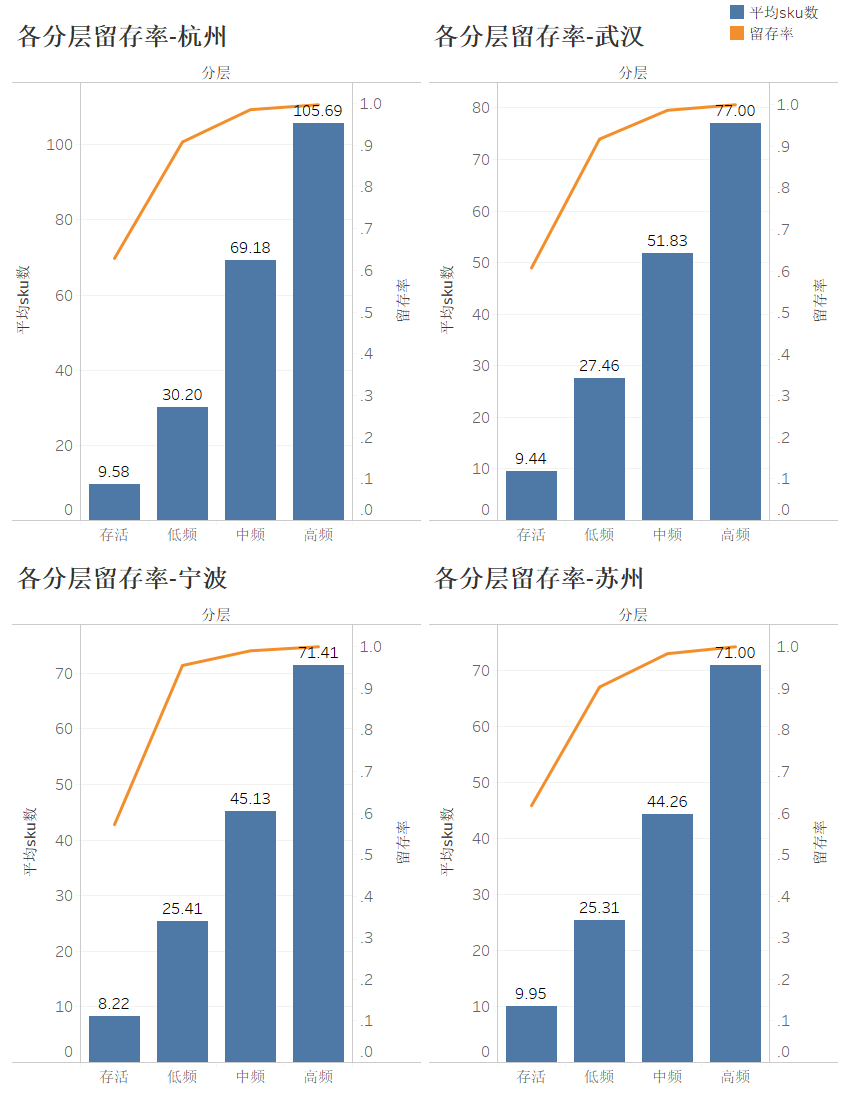

The page's visual inventory and layout, read from the dashboard file:
{"tool":"tableau","page":{"name":"各分层留存率","canvas":[850,1100],"ordinal":1},"visuals":[{"type":"legend","title":"各分层留存率-杭州","param":"[federated.0uwcjbs0awdphp1e32tgf1unsef3].[:Measure Names]","box":[727,2,119,68]},{"type":"worksheet","title":"各分层留存率-杭州","mark":"Bar","rows":["平均sku数","留存率"],"cols":["分层"],"box":[8,8,417,542]},{"type":"worksheet","title":"各分层留存率-武汉","mark":"Bar","rows":["平均sku数","留存率"],"cols":["分层"],"box":[425,8,417,542]},{"type":"worksheet","title":"各分层留存率-宁波","mark":"Bar","rows":["平均sku数","留存率"],"cols":["分层"],"box":[8,550,417,542]},{"type":"worksheet","title":"各分层留存率-苏州","mark":"Bar","rows":["平均sku数","留存率"],"cols":["分层"],"box":[425,550,417,542]}]}

Visuals, with their boxes in screenshot pixels (x1, y1, x2, y2), scaled from the page's 850x1100 canvas onto the 850x1100 screenshot:
"各分层留存率-杭州" legend: left=727, top=2, right=846, bottom=70
"各分层留存率-杭州" worksheet (Bar marks): left=8, top=8, right=425, bottom=550
"各分层留存率-武汉" worksheet (Bar marks): left=425, top=8, right=842, bottom=550
"各分层留存率-宁波" worksheet (Bar marks): left=8, top=550, right=425, bottom=1092
"各分层留存率-苏州" worksheet (Bar marks): left=425, top=550, right=842, bottom=1092
